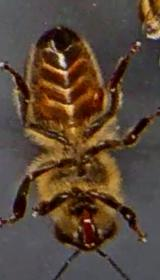varroa_mite: (83, 77, 108, 118)
